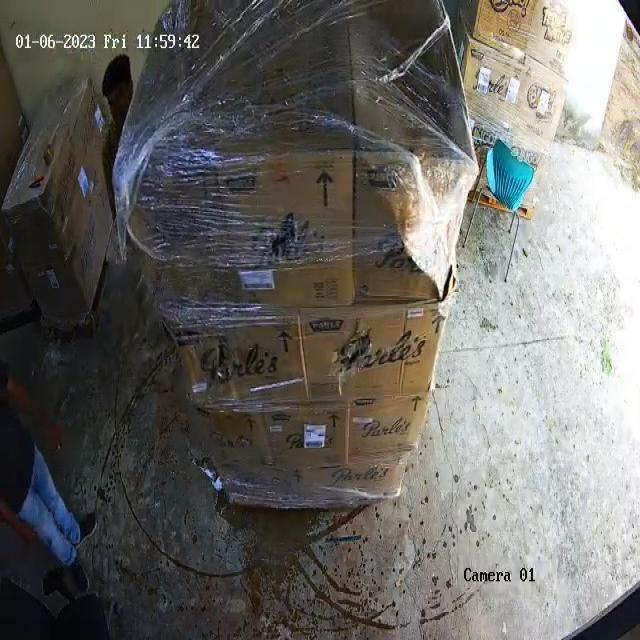leakage: (255, 205, 307, 273), (327, 326, 386, 381), (217, 340, 247, 384)
squeeze: (395, 127, 467, 239)
